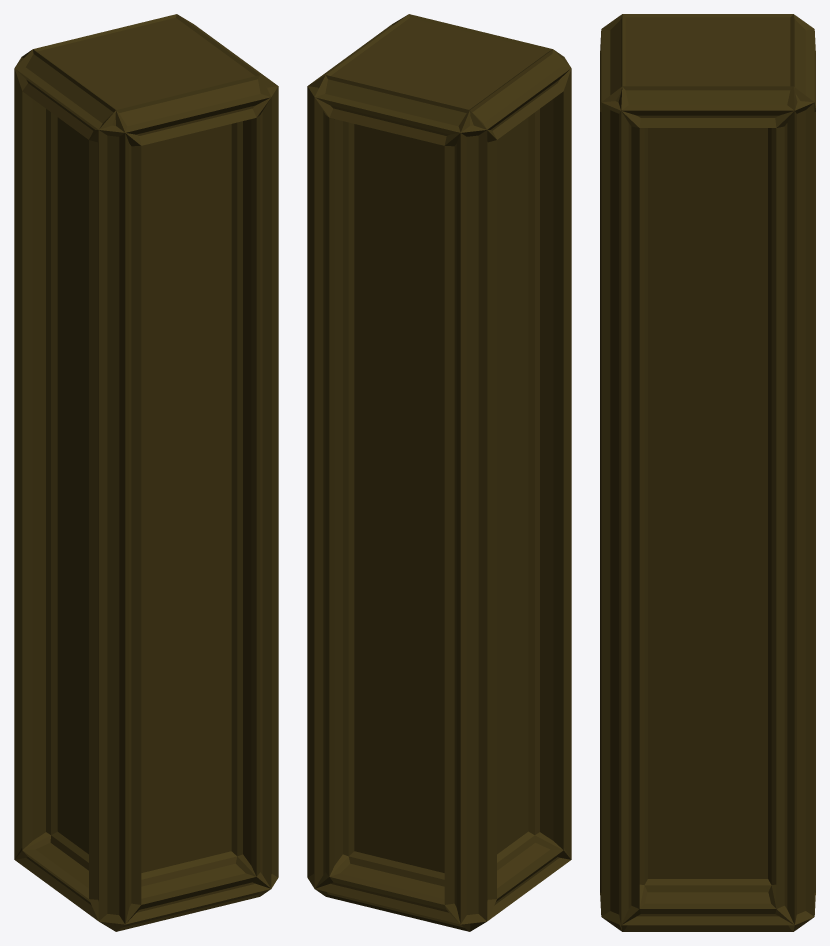
The model's file is MetalPost-bronze.glb.
The picture shows the model from 3 angles, left to right: view 1: azimuth 30°, elevation 25°; view 2: azimuth 150°, elevation 25°; view 3: azimuth 270°, elevation 25°; orthographic projection. The views are drawn at different scales.
Parts seen in each view (by area): view 1: Post; view 2: Post; view 3: Post.
Part boxes in pixels (x1,y1,x2,y2): Post: (14,14,278,931); Post: (307,14,571,931); Post: (600,14,815,931).
Bounding box in the file's own units: 0.6975 × 3.01 × 0.6975.
